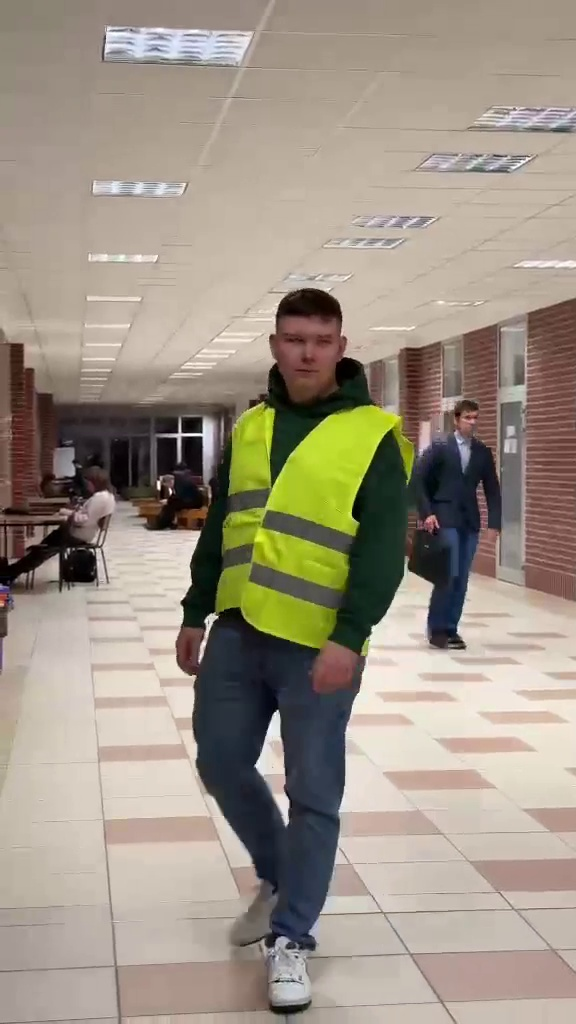no vest: (412, 389, 511, 649), (10, 461, 119, 588)
vest: (175, 281, 408, 1001)
